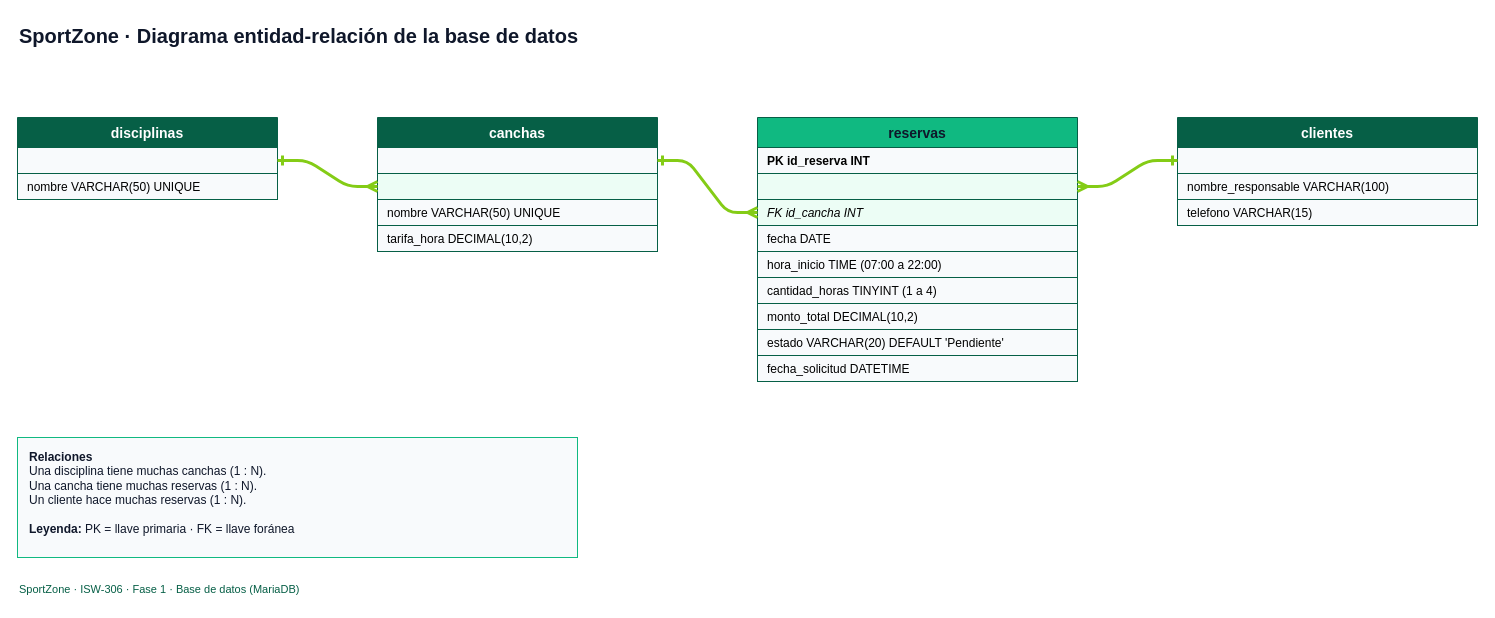
Image size: 1495x618. Some labels were removed from this diagram. The centre of each missing label's shape, as x and y in pixels:
"FK id_cliente INT" goes at point 917,186.
"FK id_disciplina INT" goes at point 517,186.
"PK id_cancha INT" goes at point 517,160.
"PK id_cliente INT" goes at point 1327,160.
"PK id_disciplina INT" goes at point 147,160.
